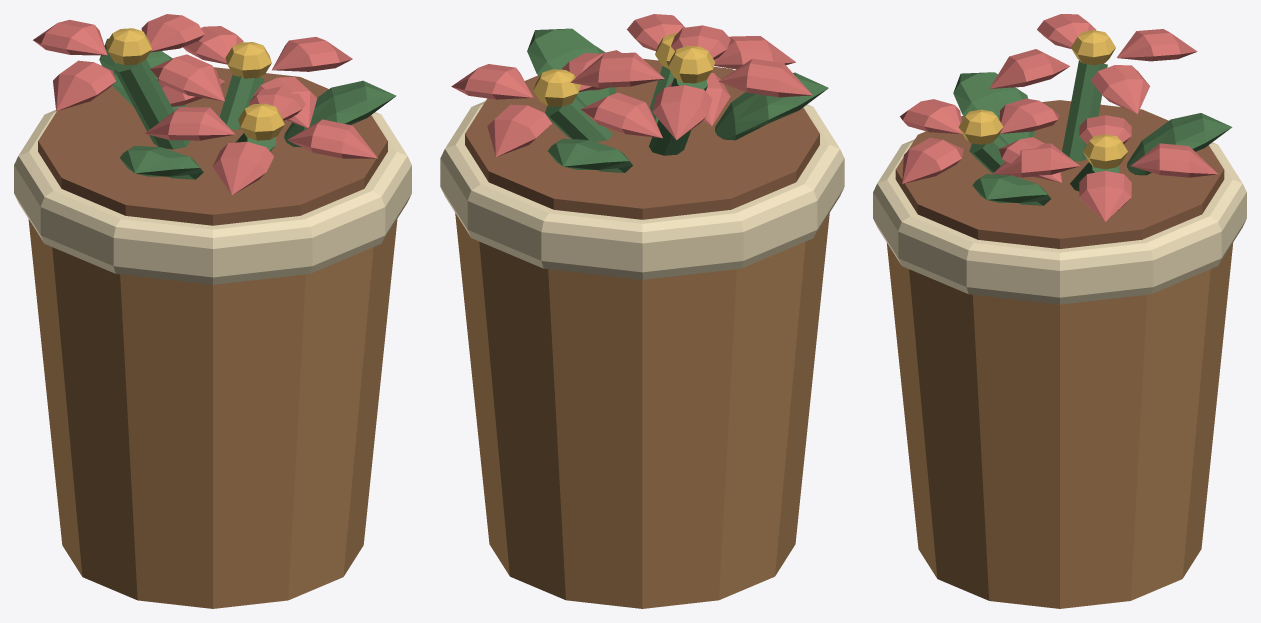
Rendered from SM_Planter.fbx.
3 views of the same model, side by side, from view 1: azimuth 30°, elevation 25°; view 2: azimuth 150°, elevation 25°; view 3: azimuth 270°, elevation 25° (orthographic). The views are drawn at different scales.
Parts seen in each view (by area): view 1: PlanterMesh; view 2: PlanterMesh; view 3: PlanterMesh.
Part boxes in pixels (x1,y1,x2,y2): PlanterMesh: (14, 14, 411, 608); PlanterMesh: (440, 14, 844, 608); PlanterMesh: (873, 14, 1246, 608).
Size of the model in its own units: 0.33 by 0.474 by 0.33.
